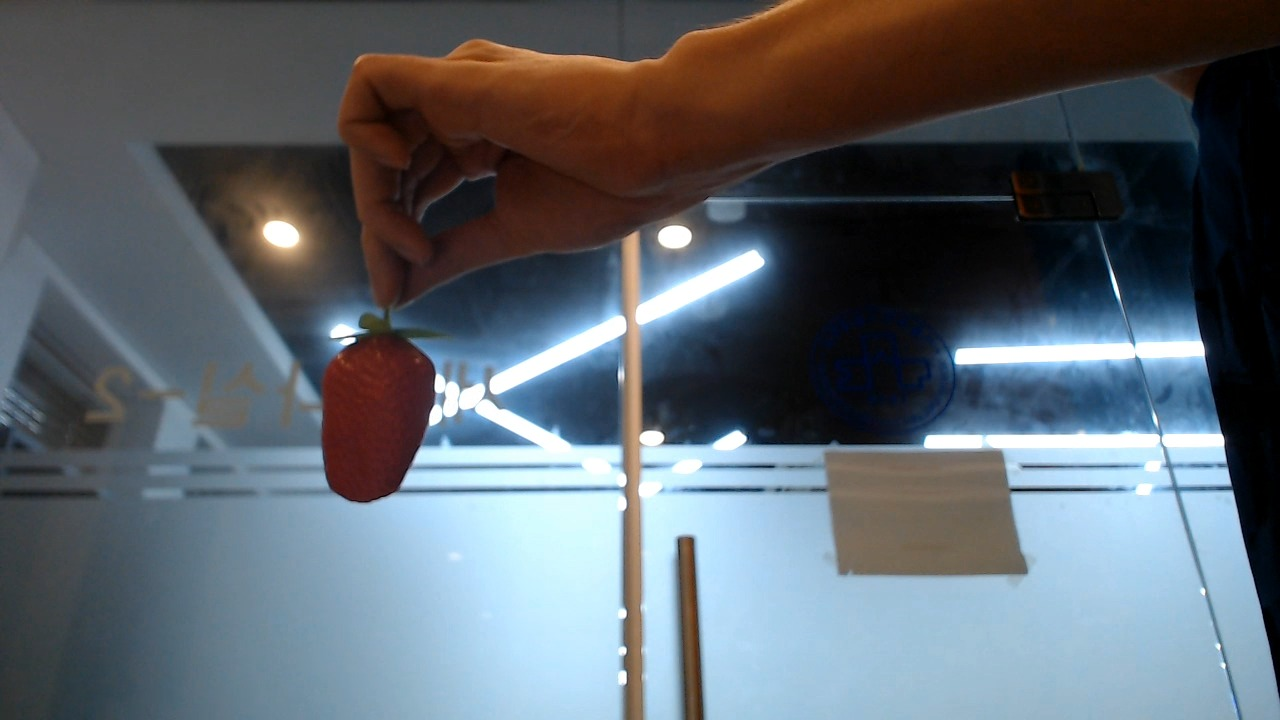strawberry: (321, 328, 436, 504)
